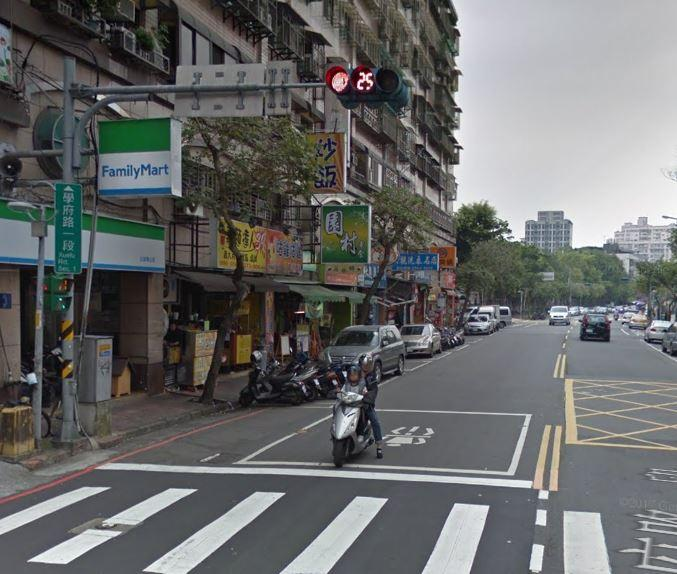car: (316, 317, 406, 385), (400, 312, 443, 359), (580, 307, 612, 343), (642, 318, 677, 346), (466, 306, 512, 327), (461, 309, 497, 335), (548, 299, 572, 331), (628, 311, 651, 331)
motorcycle: (231, 348, 314, 408), (328, 378, 373, 466)
red_traffic_light: (323, 63, 405, 100)
